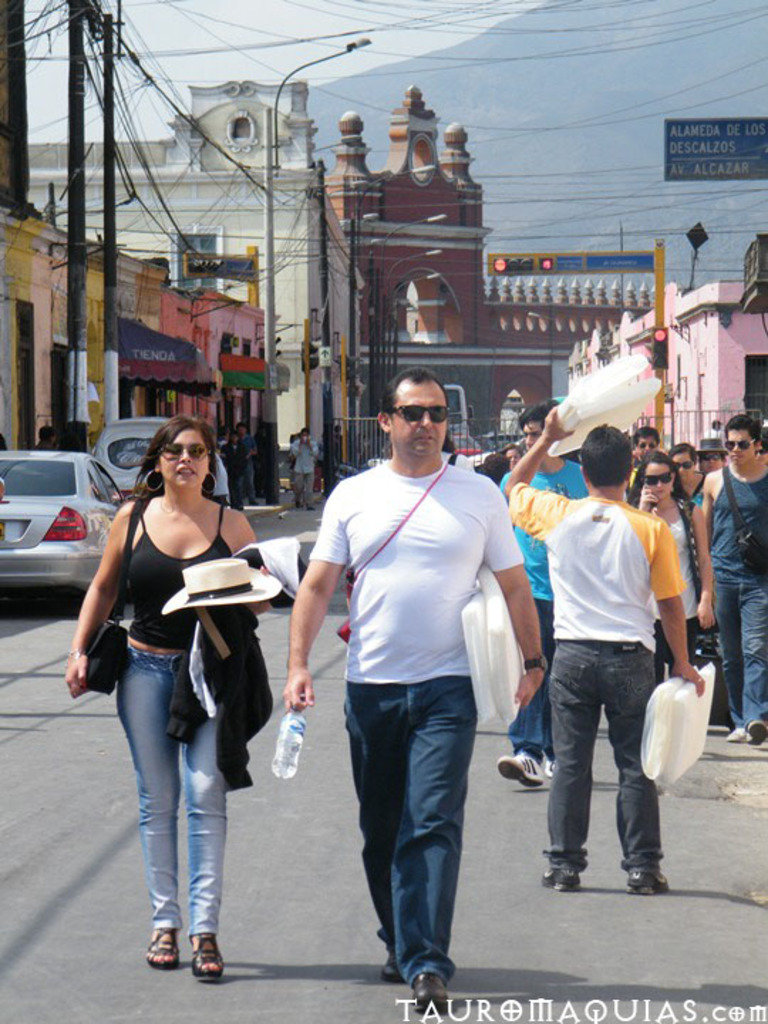Car: (0, 452, 122, 618), (93, 418, 228, 513), (364, 433, 484, 466)
